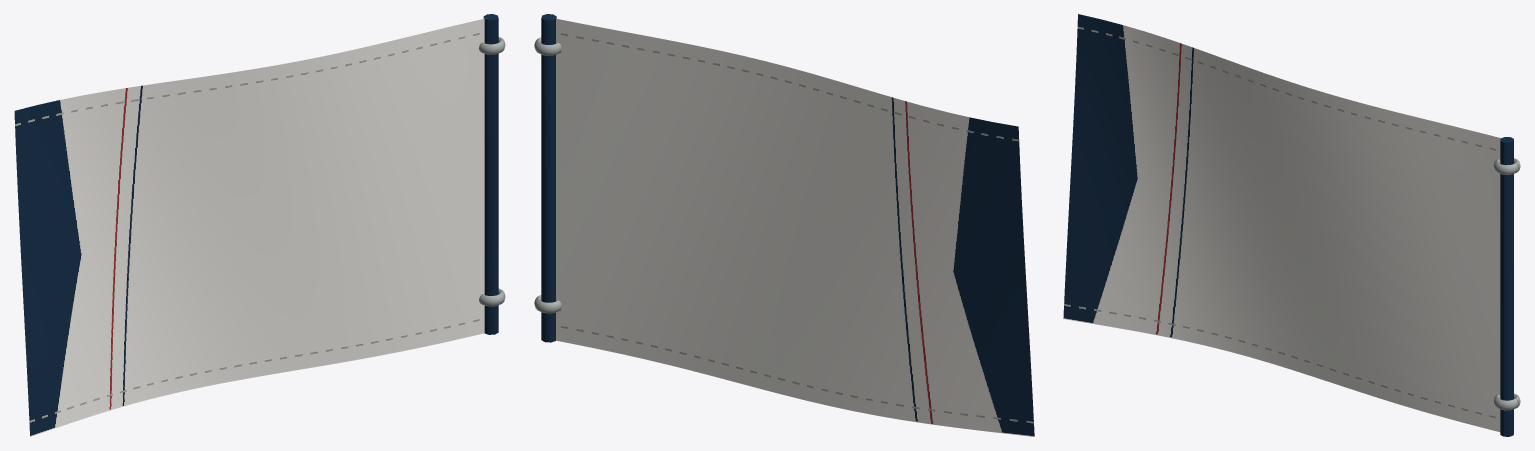
The model's file is Pennant_02_N_紺舷・二本線.glb.
3 views of the same model, side by side, from view 1: azimuth 30°, elevation 25°; view 2: azimuth 150°, elevation 25°; view 3: azimuth 330°, elevation 25° (orthographic). The views are drawn at different scales.
Parts seen in each view (by area): view 1: Pennant_02_N; view 2: Pennant_02_N; view 3: Pennant_02_N.
Part boxes in pixels (left/top/right/bottom): Pennant_02_N: left=14, top=14, right=505, bottom=436; Pennant_02_N: left=534, top=14, right=1034, bottom=436; Pennant_02_N: left=1063, top=14, right=1520, bottom=436.
Bounding box in the file's own units: 0.2875 × 0.1879 × 0.0181.
3 materials, 3 textured.
